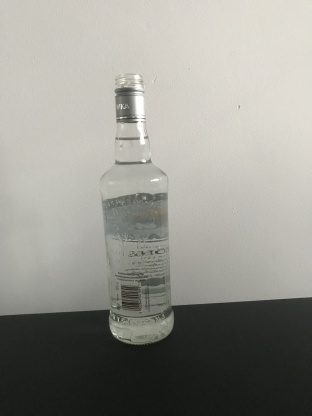nakretka: (112, 70, 148, 123)
